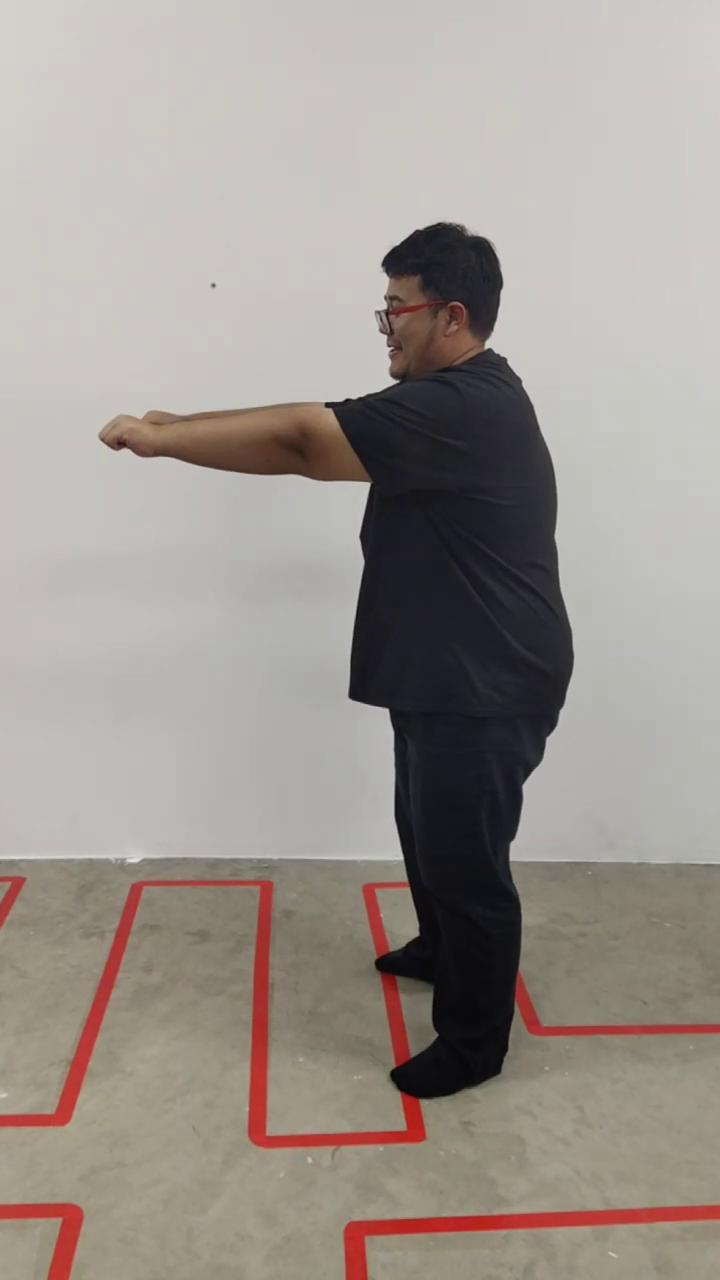squat up: (100, 220, 575, 1102)
